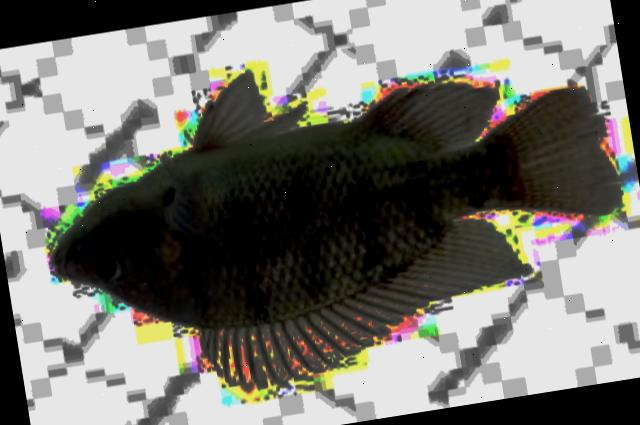Healthy Fish: (51, 75, 618, 387)
